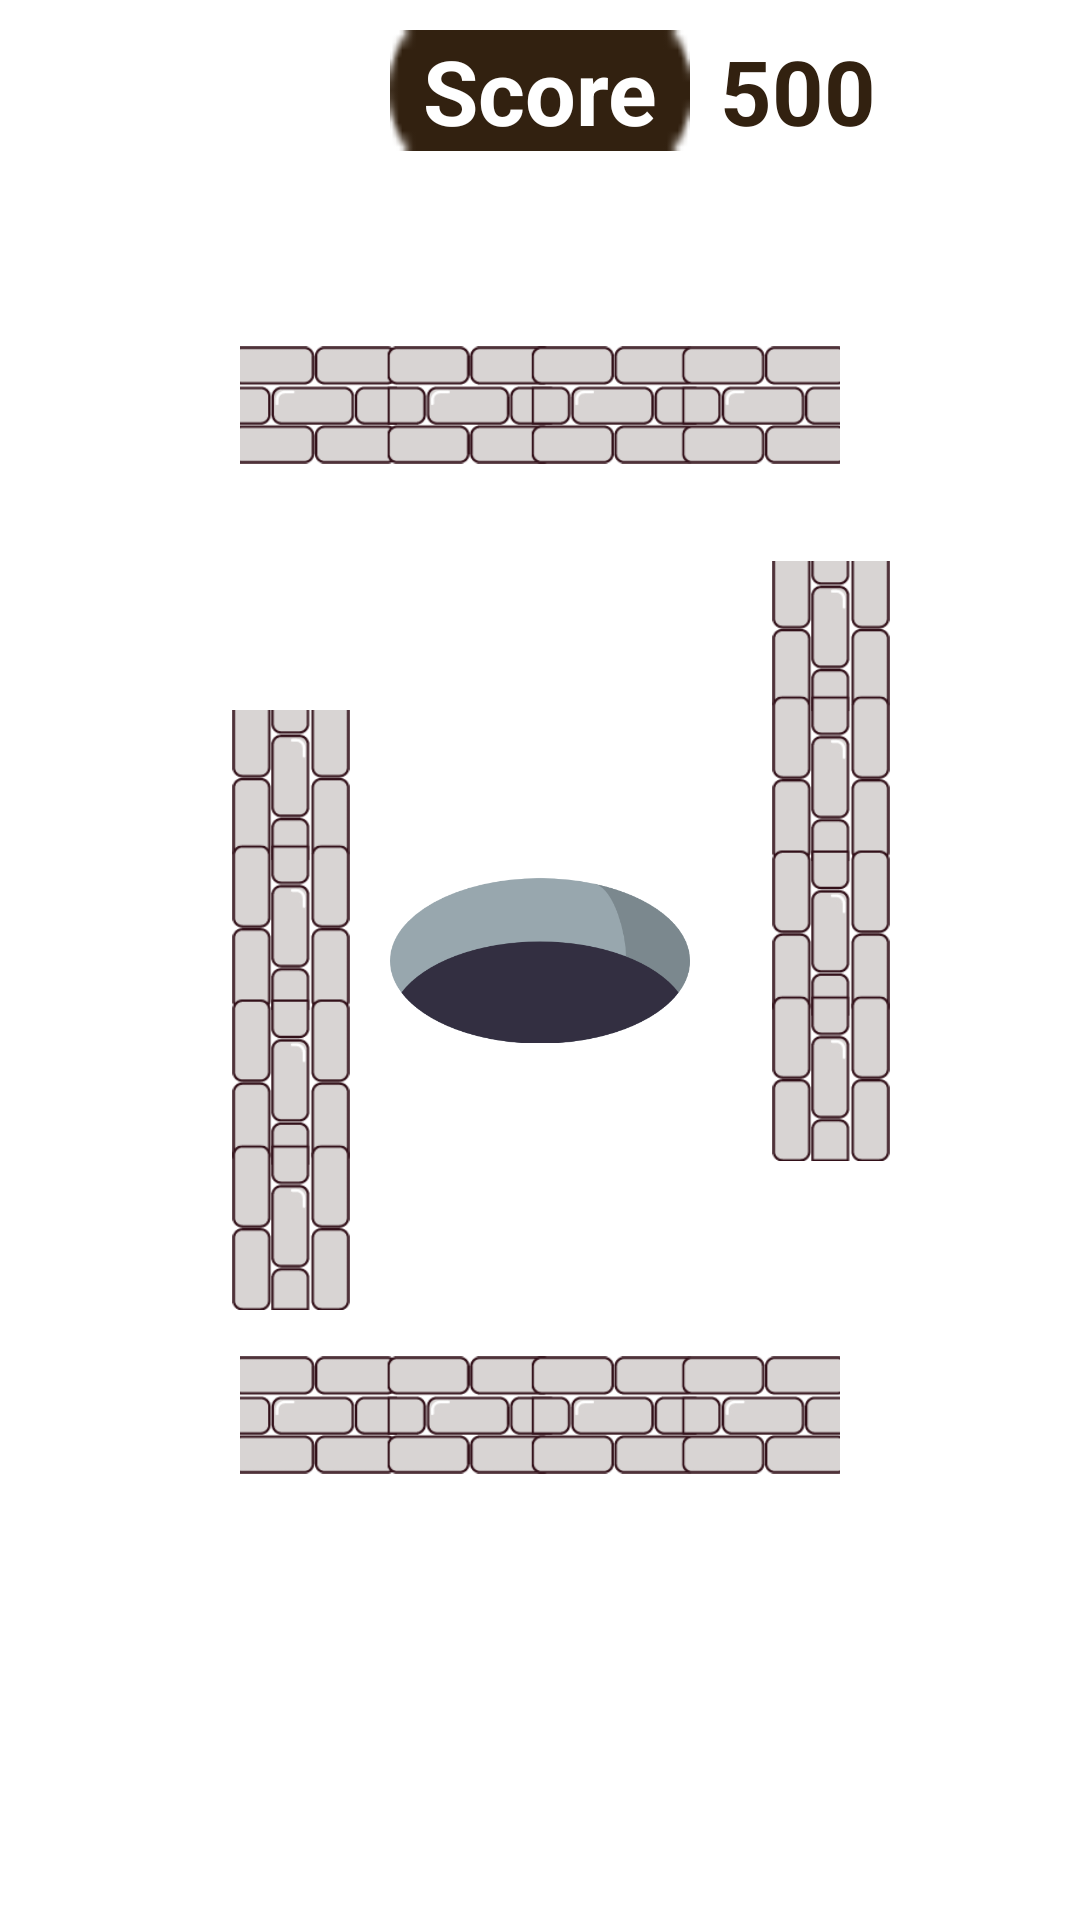

Named icons in this screenshot (1080 x 1920) and their centers, point (x, y):
hole: point (540, 960)
